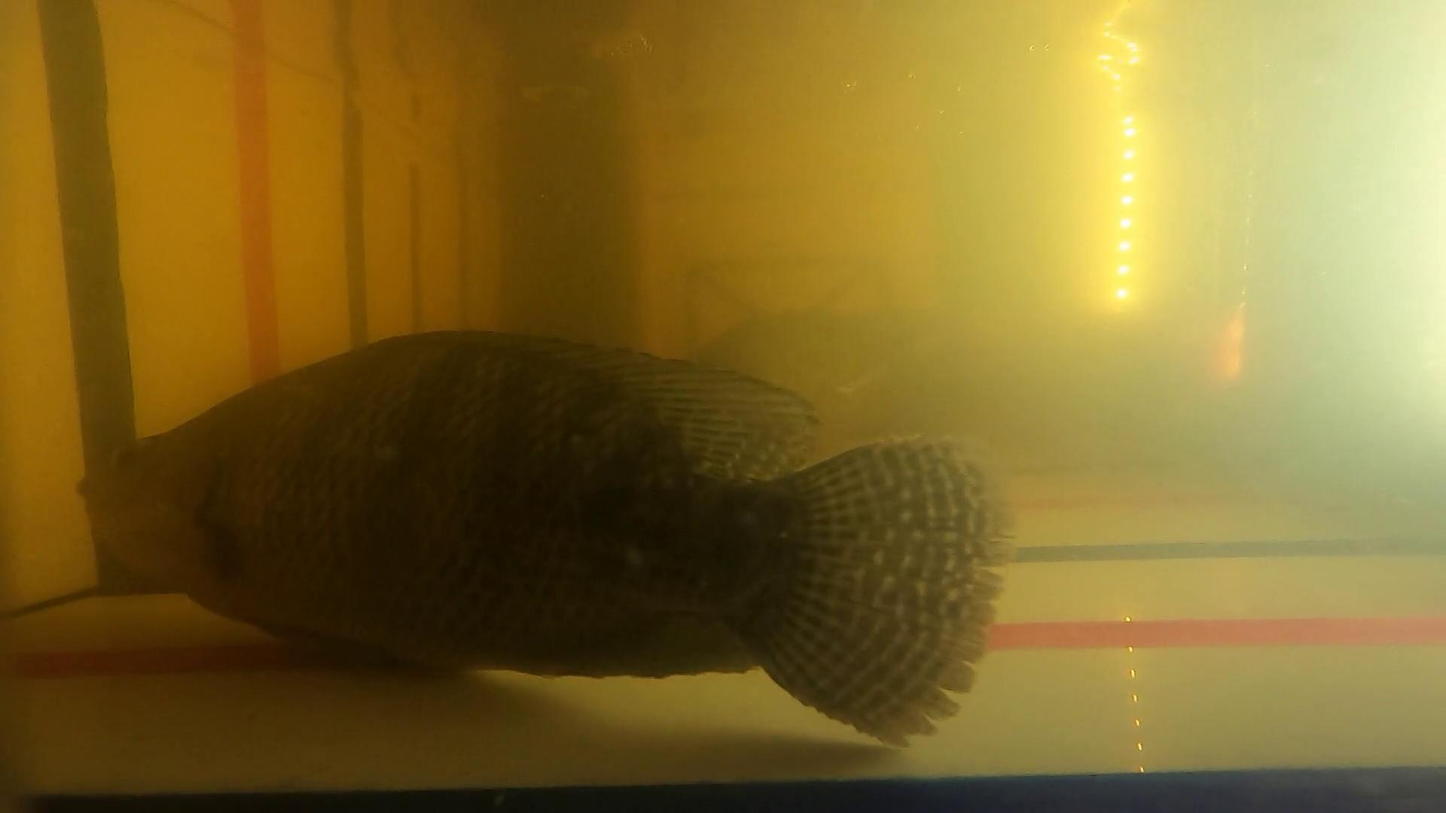Tilapia: (77, 332, 1014, 749)
